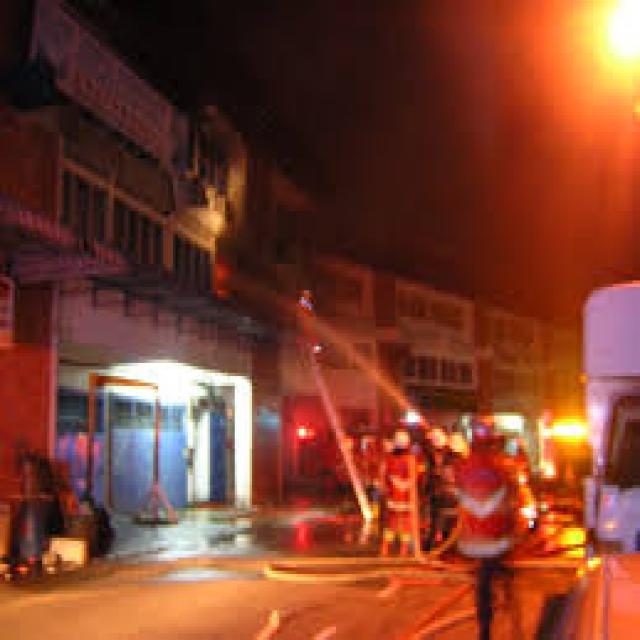Smoke: (258, 16, 421, 214)
